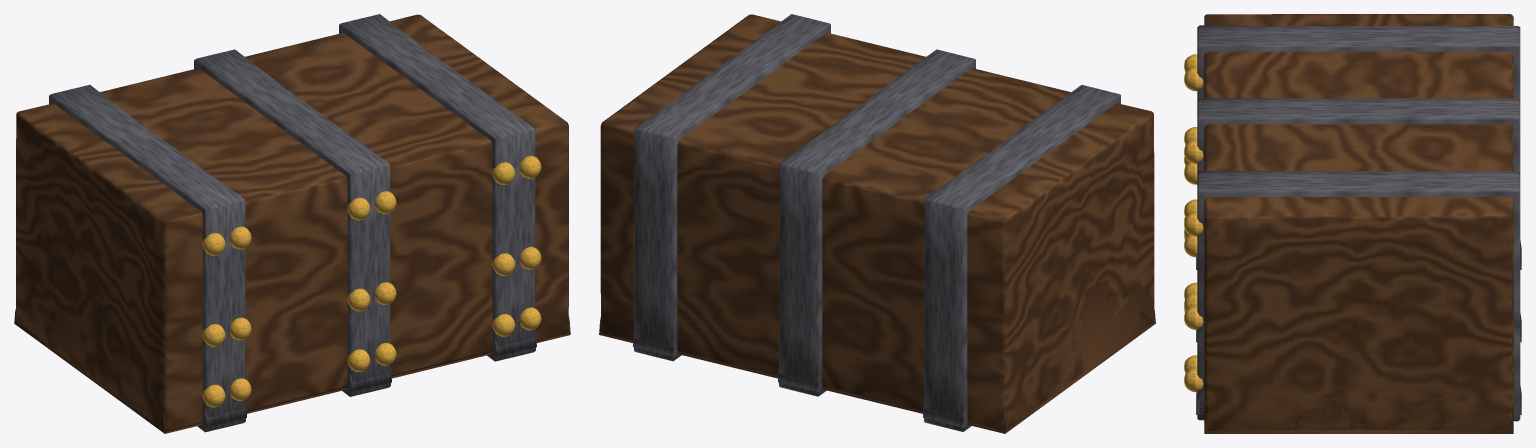
File: prp_ornate_treasure_chest.glb
The picture shows the model from 3 angles, left to right: view 1: azimuth 30°, elevation 25°; view 2: azimuth 150°, elevation 25°; view 3: azimuth 270°, elevation 25°; orthographic projection. The views are drawn at different scales.
Parts seen in each view (by area): view 1: body, straps, studs, lid, lid_straps; view 2: body, straps, lid, lid_straps; view 3: body, straps, lid, studs, lid_straps.
Boxes of the visible parts, x1,y1,x2,y2 form: body: (16,14,568,430); straps: (49,14,535,432); studs: (202,155,541,407); lid: (14,278,570,433); lid_straps: (202,327,536,427); body: (600,14,1154,429); straps: (634,14,1120,431); lid: (599,280,1155,433); lid_straps: (633,333,967,427); body: (1204,14,1513,430); straps: (1197,25,1520,421); lid: (1204,347,1513,433); studs: (1184,54,1203,392); lid_straps: (1196,240,1521,414).
Size of the model in its own units: 1.4 by 0.78 by 0.9821.
Materials: 3 (3 with a texture image).
